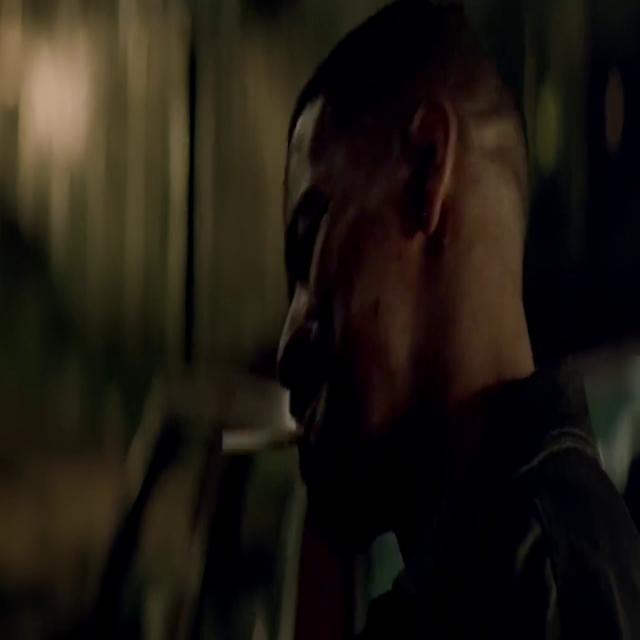Smooking: (215, 414, 301, 463)
